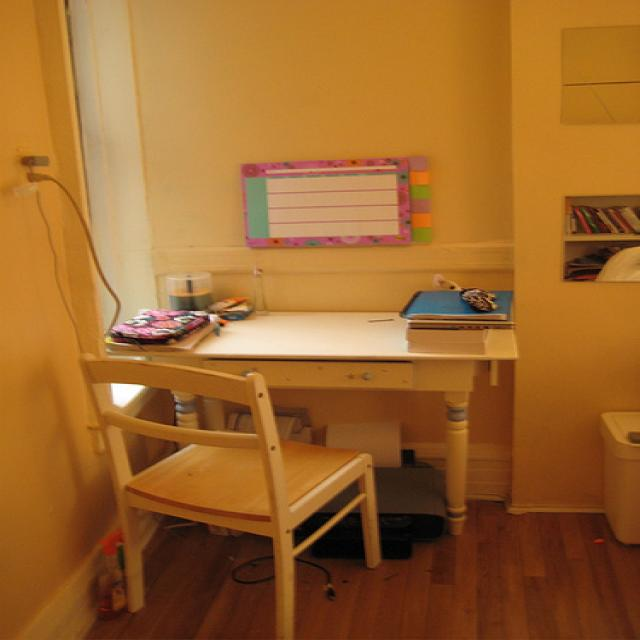chair: (77, 352, 382, 639)
